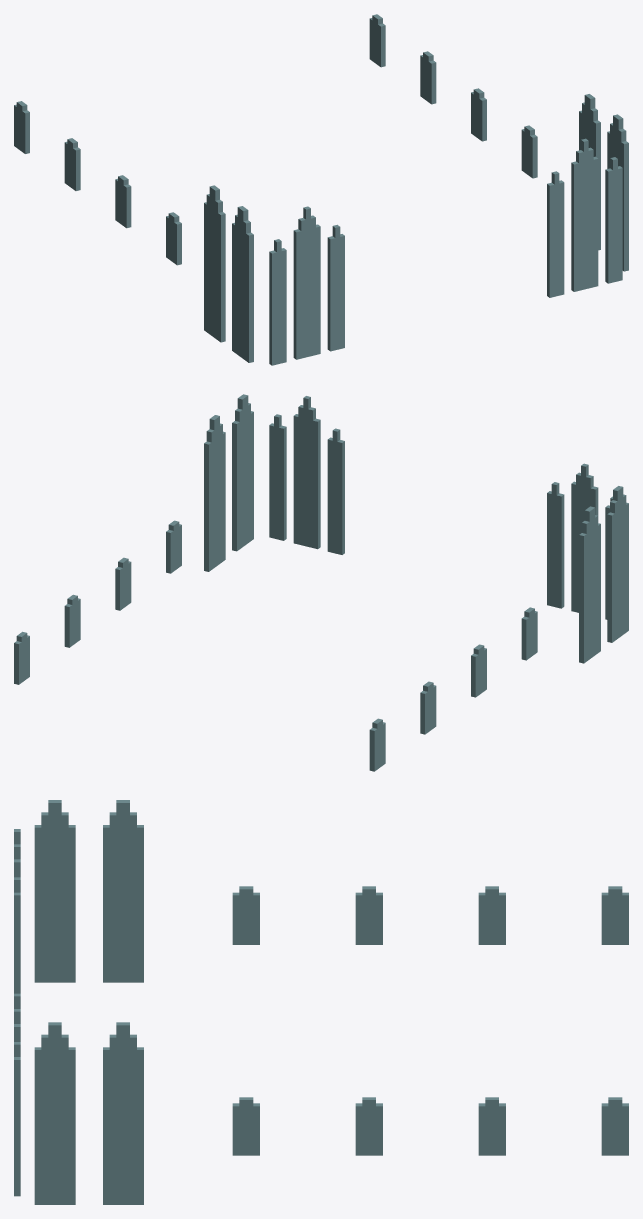
Rendered from church-81-ch_windowlower.obj.
3 renders of one model, top to bottom at view 1: azimuth 30°, elevation 25°; view 2: azimuth 150°, elevation 25°; view 3: azimuth 270°, elevation 25°, orthographic. The views are drawn at different scales.
Parts seen in each view (by area): view 1: ch_windowlower; view 2: ch_windowlower; view 3: ch_windowlower.
Part boxes in pixels (x1,y1,x2,y2): ch_windowlower: (14, 14, 628, 365); ch_windowlower: (14, 394, 628, 771); ch_windowlower: (14, 800, 628, 1204).
Size of the model in its own units: 7.8 by 2.9 by 9.
Materials: 1 (1 with a texture image).
